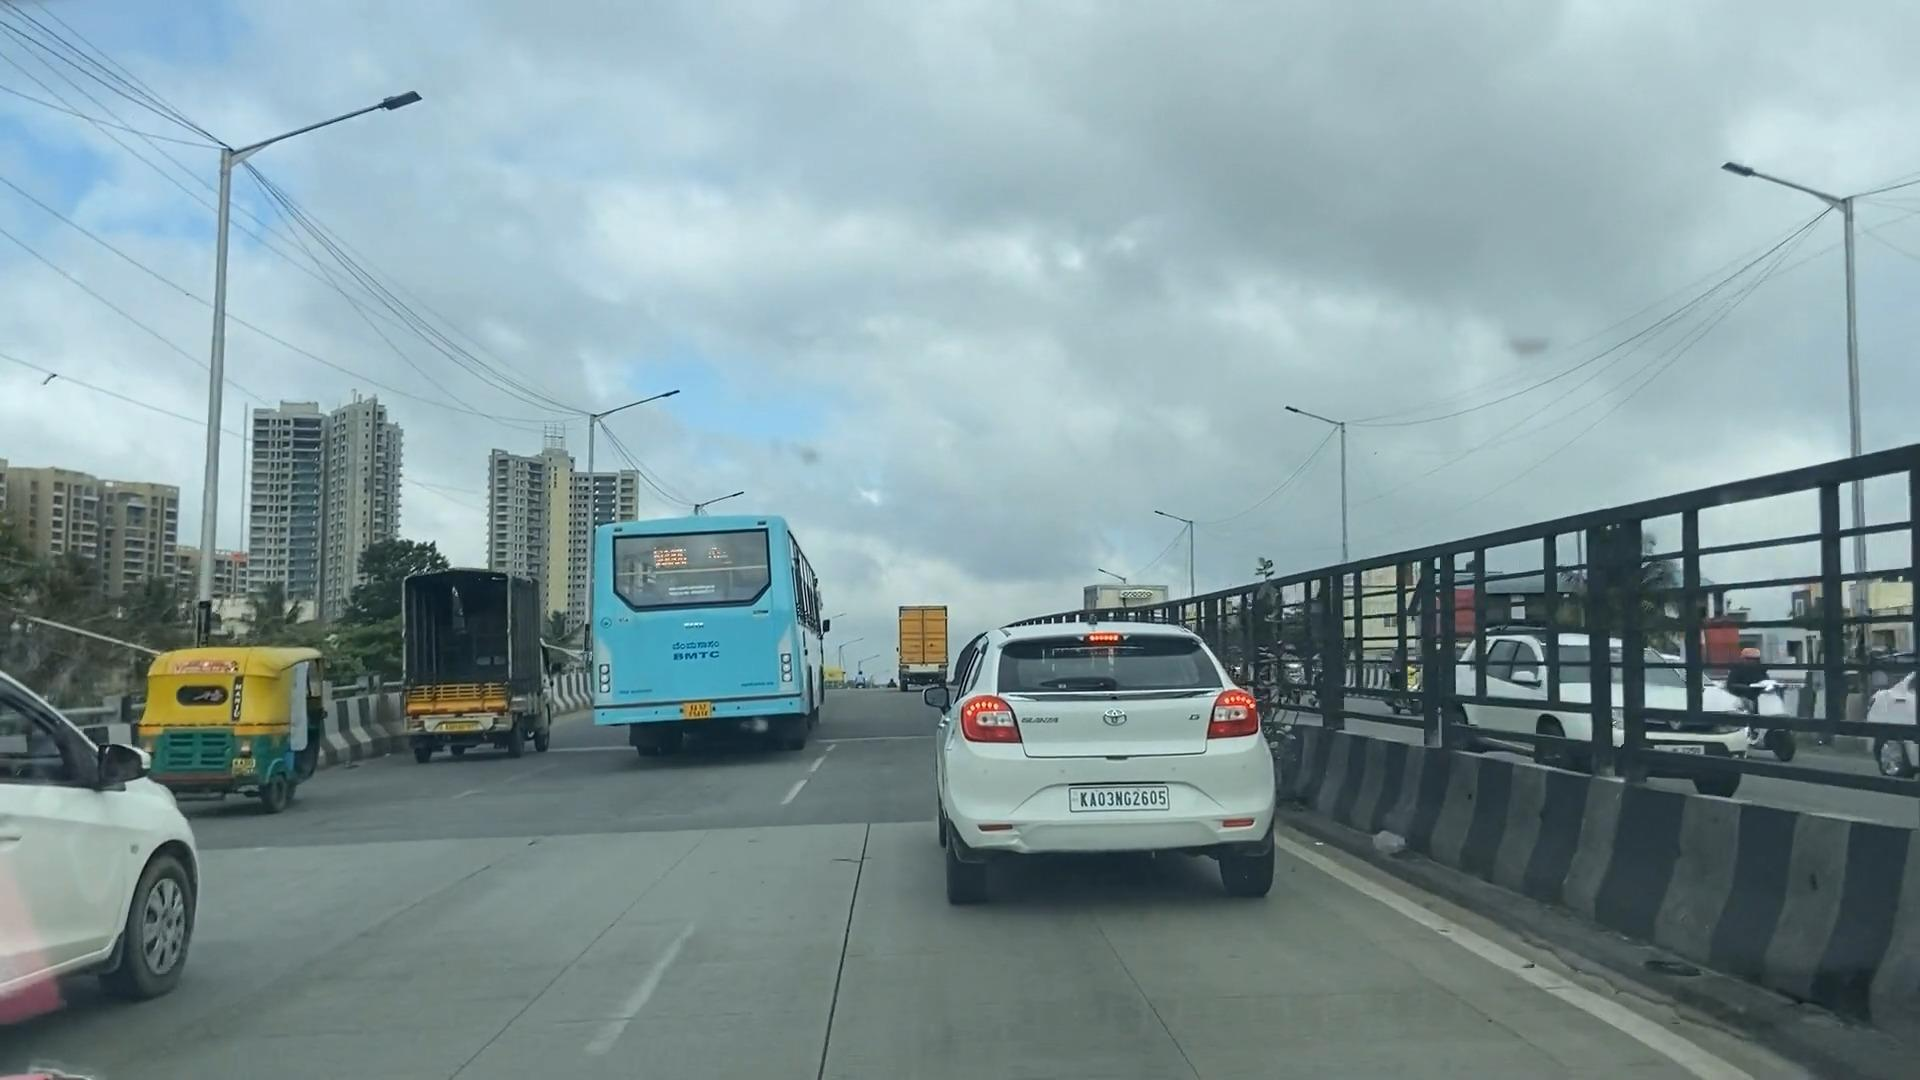HMV: (562, 496, 844, 798), (372, 549, 559, 785), (884, 589, 960, 703)
